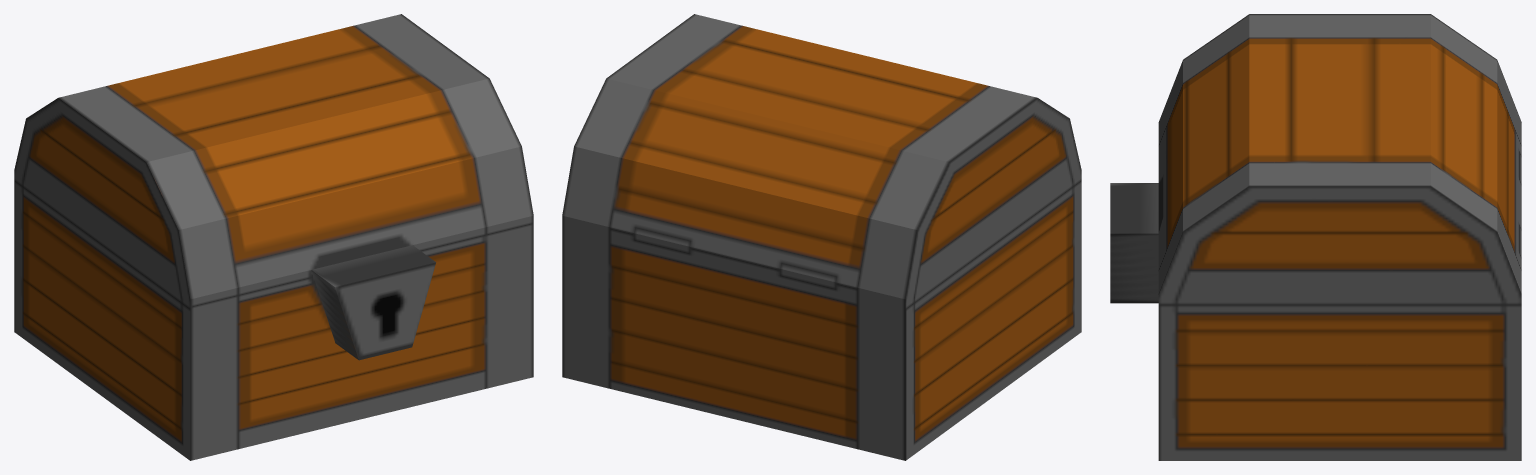
The model's file is Chest.FBX.
The picture shows the model from 3 angles, left to right: view 1: azimuth 30°, elevation 25°; view 2: azimuth 150°, elevation 25°; view 3: azimuth 270°, elevation 25°; orthographic projection. The views are drawn at different scales.
Visible parts, largest first — view 1: Chest; view 2: Chest; view 3: Chest.
Boxes of the visible parts, left/top/right/bottom form: Chest: left=14, top=14, right=533, bottom=460; Chest: left=562, top=14, right=1081, bottom=460; Chest: left=1110, top=14, right=1521, bottom=460.
Bounding box in the file's own units: 39.4 × 29.22 × 39.68.
Materials: 1 (1 with a texture image).
